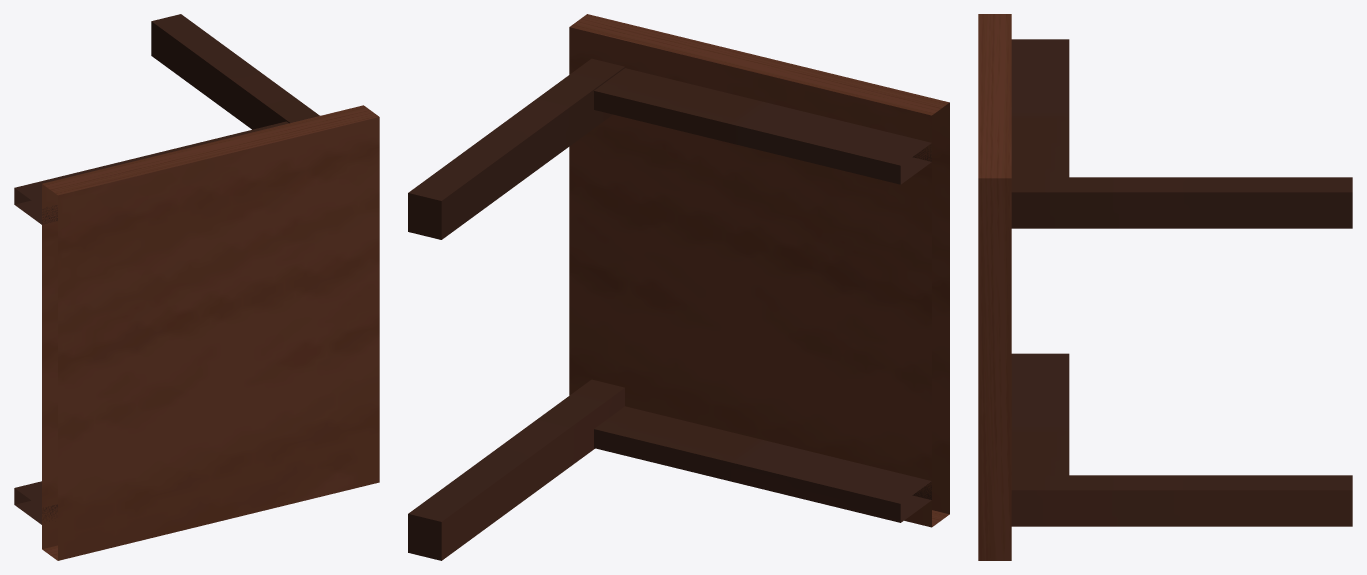
File: pz_table_tables_high_01_large_dark_wooden_1_0.obj
The picture shows the model from 3 angles, left to right: view 1: azimuth 30°, elevation 25°; view 2: azimuth 150°, elevation 25°; view 3: azimuth 270°, elevation 25°; orthographic projection. The views are drawn at different scales.
Size of the model in its own units: 0.875 by 0.95 by 0.842.
1 material, 1 textured.
